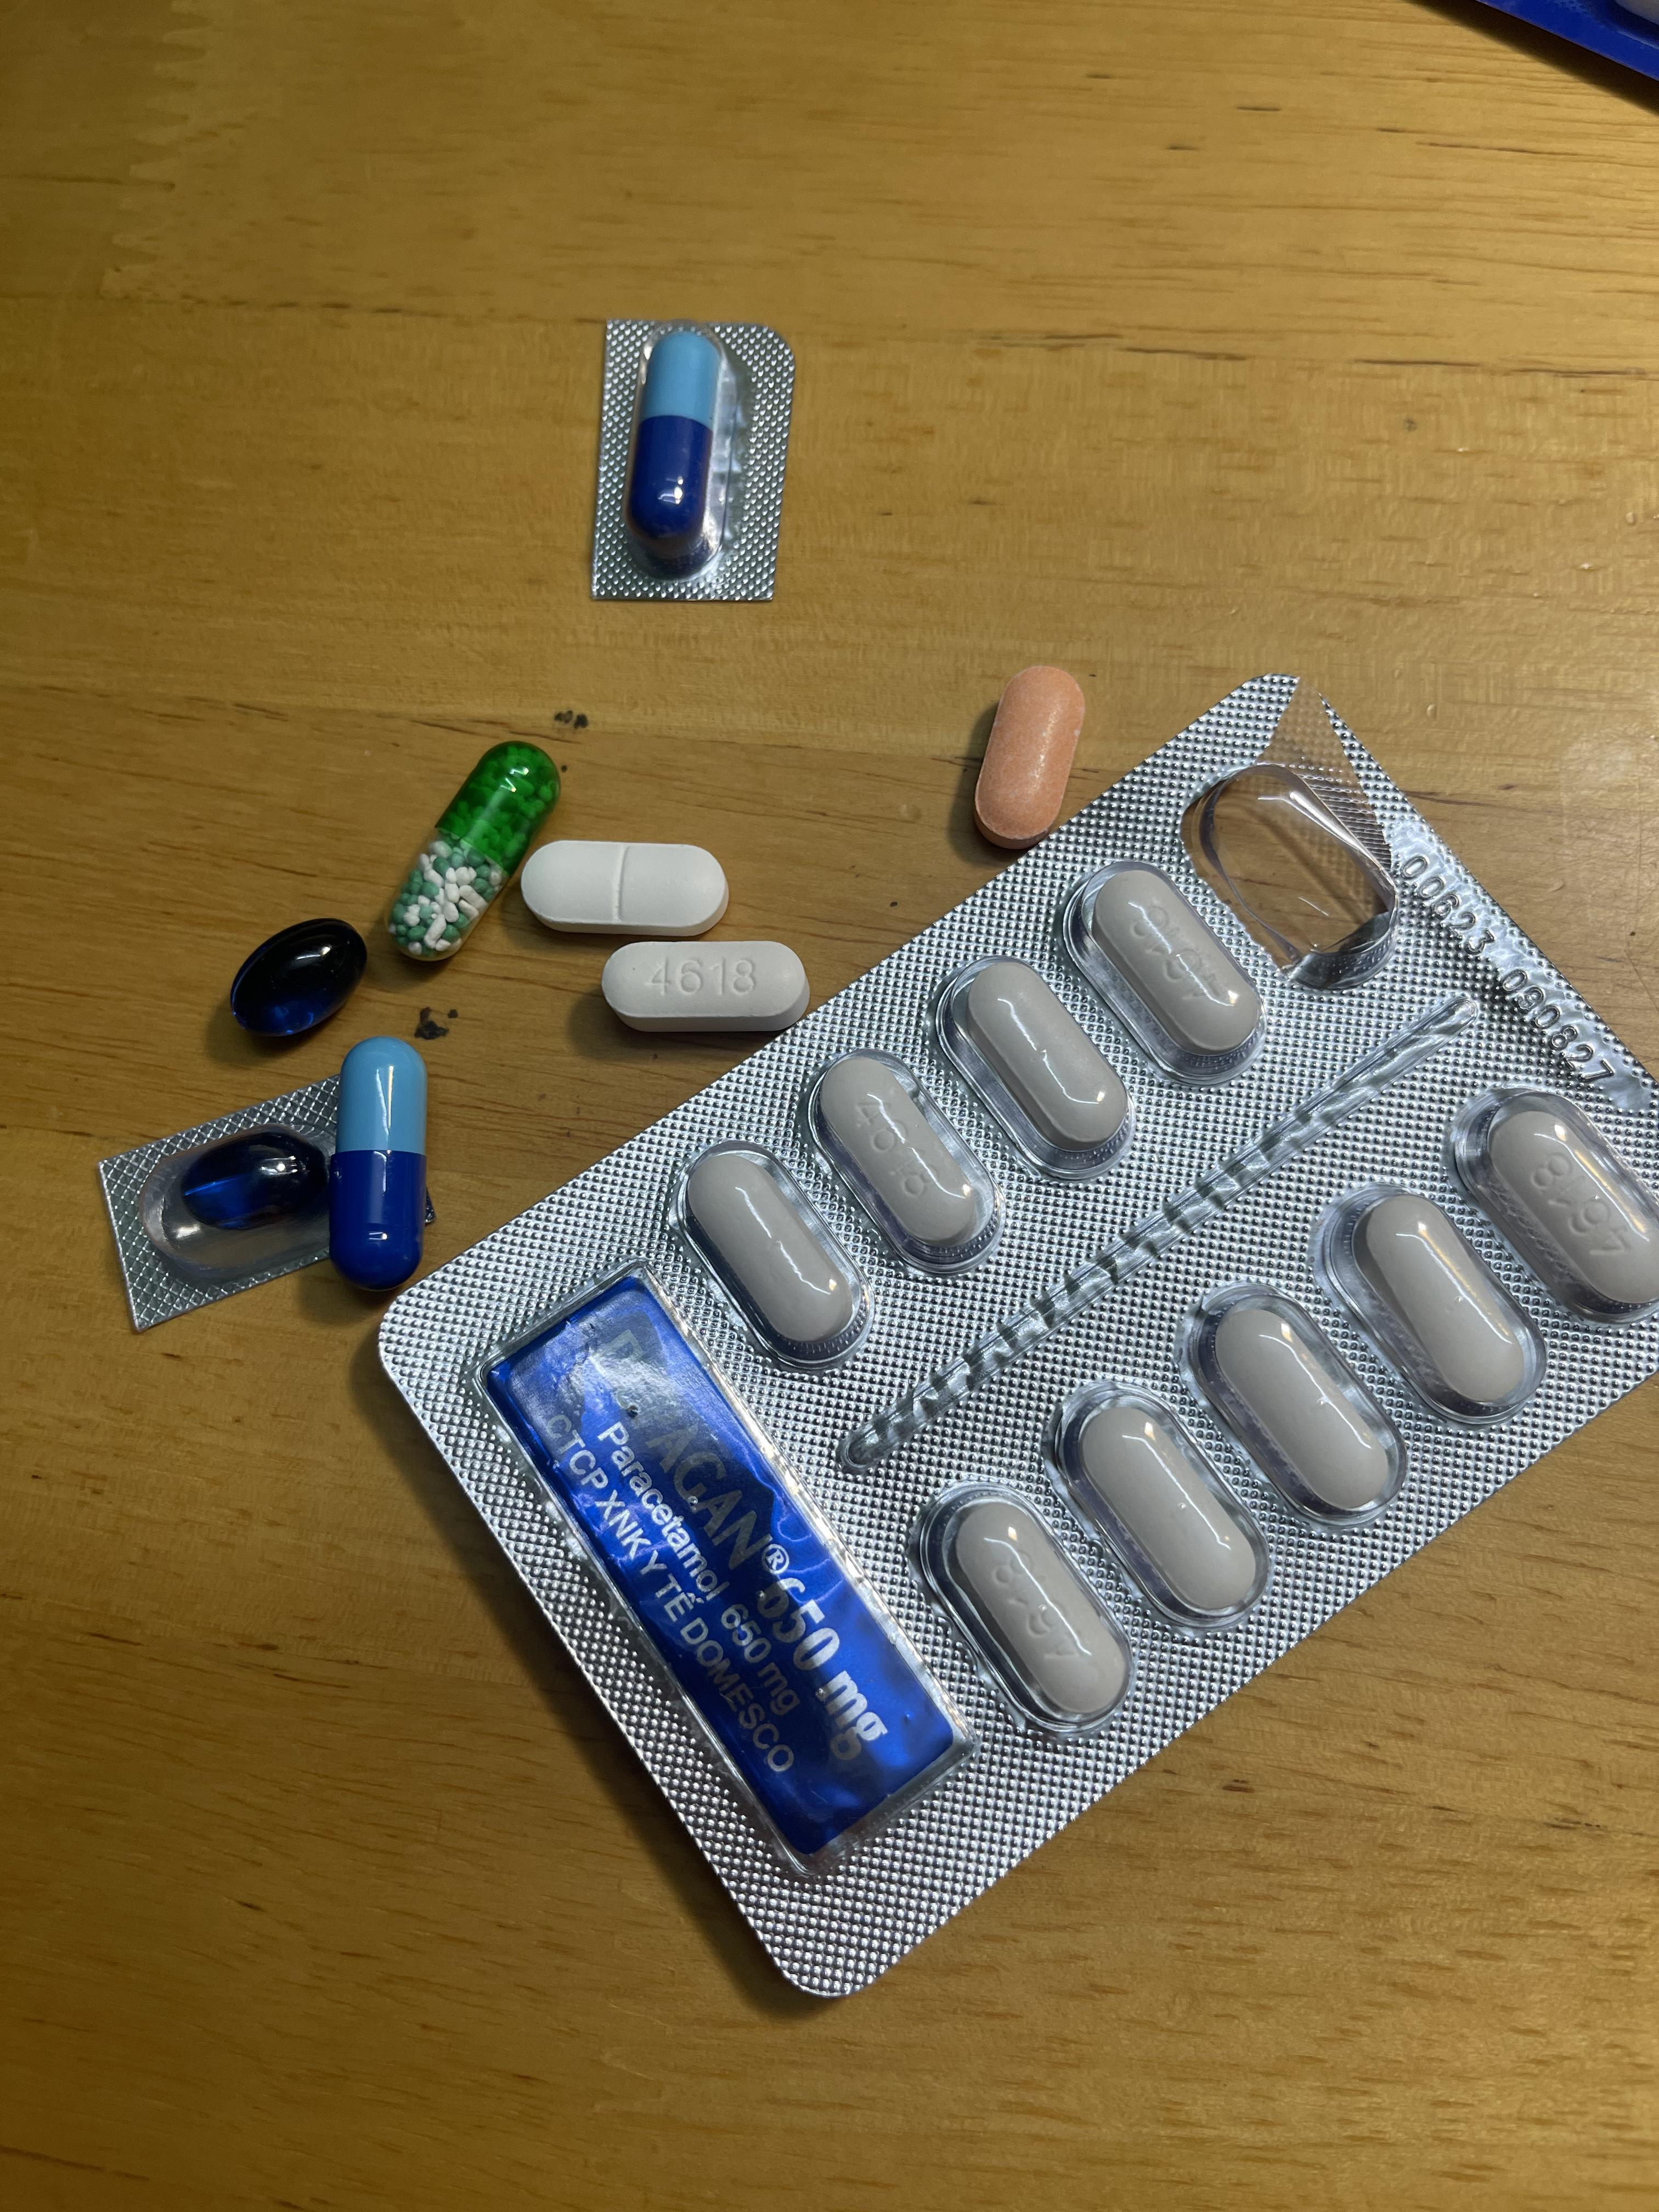Lincomyxin_500mg: (234, 914, 366, 1042), (176, 1132, 326, 1231)
Loratadine_10mg: (971, 665, 1089, 848)
Paracetamol_350mg: (519, 840, 730, 939)
Paracetamol_500mg: (1312, 1183, 1546, 1433), (1049, 1376, 1270, 1635), (1194, 1285, 1399, 1521), (922, 1493, 1127, 1726), (931, 954, 1136, 1170), (671, 1143, 864, 1371), (812, 1050, 1002, 1271), (1073, 862, 1265, 1078), (1486, 1106, 1657, 1310), (603, 939, 807, 1031)
Paracetamol_650mg: (382, 745, 559, 963)
pill: (629, 329, 734, 575), (329, 1043, 425, 1280)
